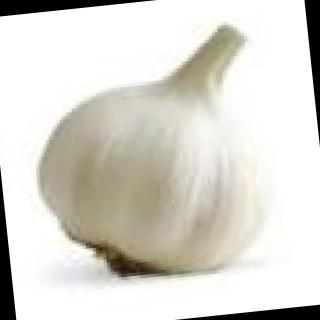Bawang Putih: (17, 18, 298, 296)
